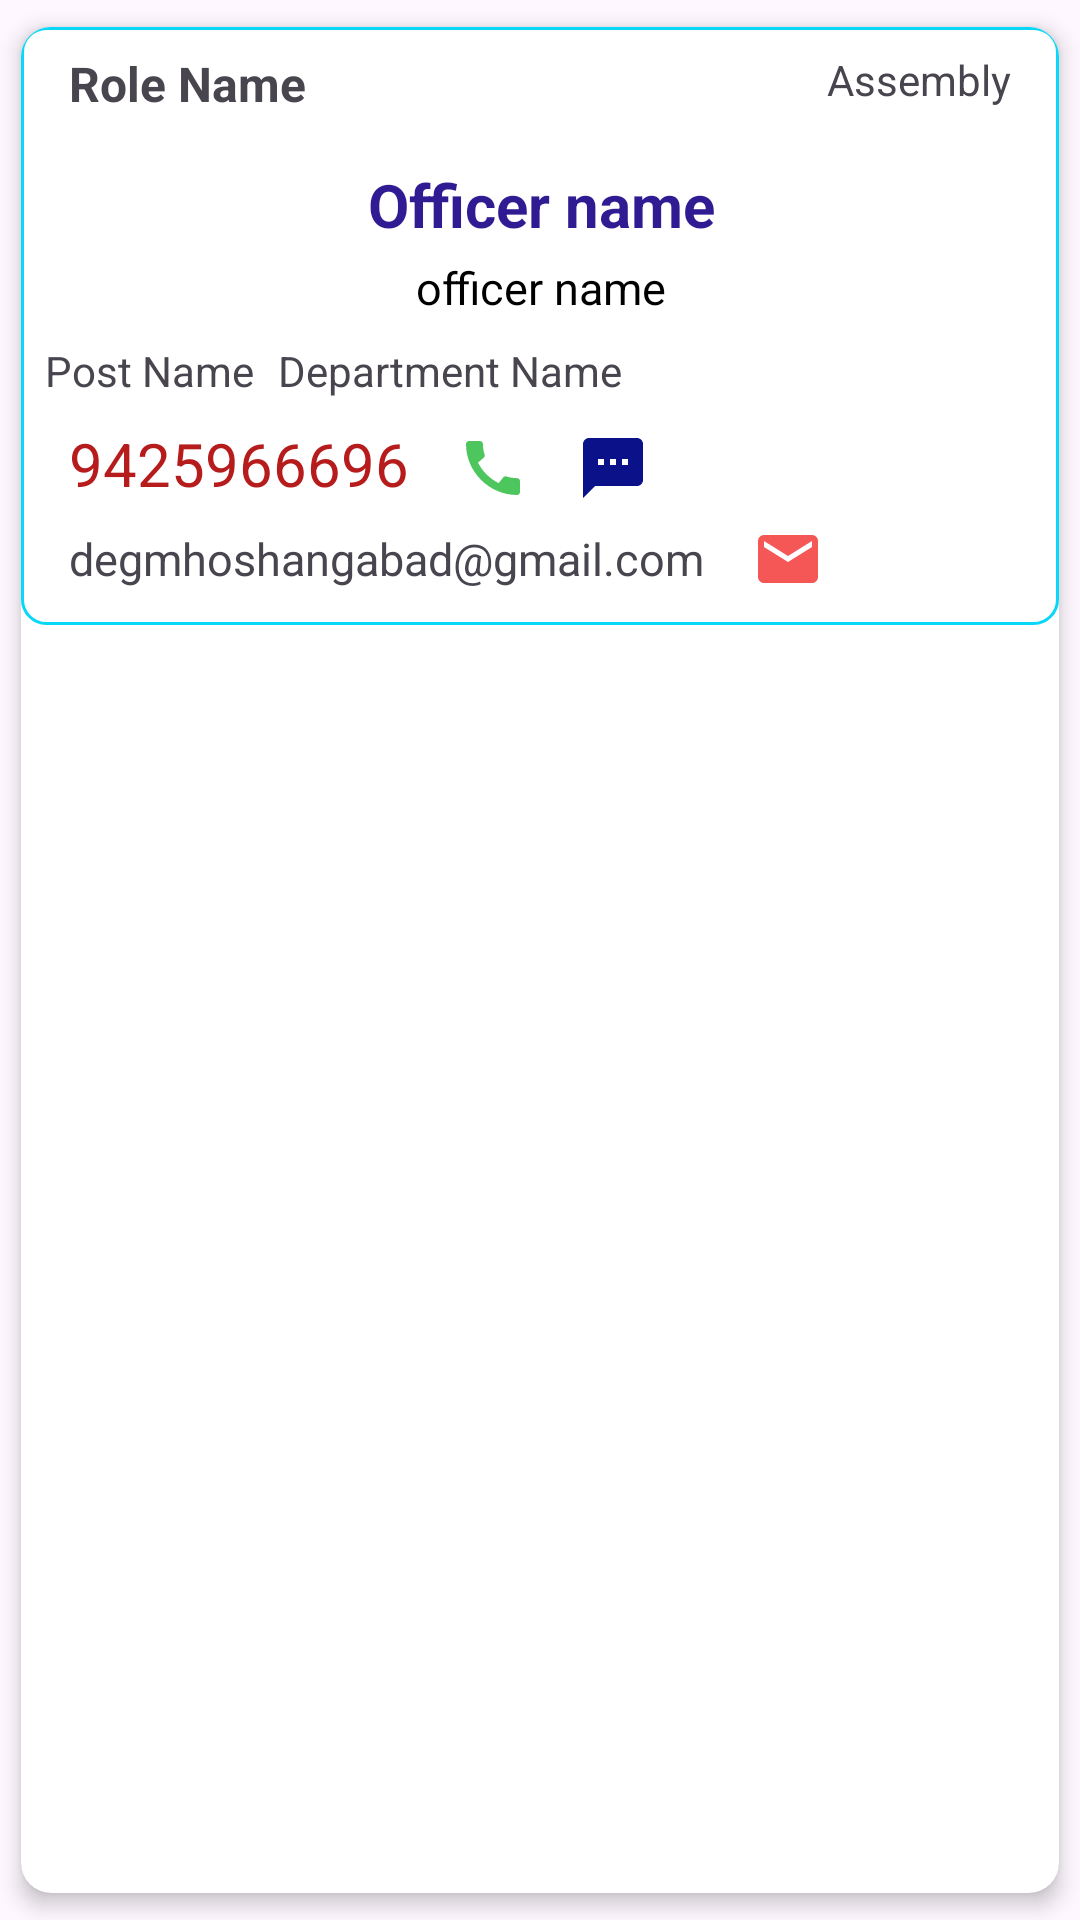

Screen size 1080w x 1920h. Icon name, then its center in pixels as (x,y):
call: (493,468)
email: (788,559)
